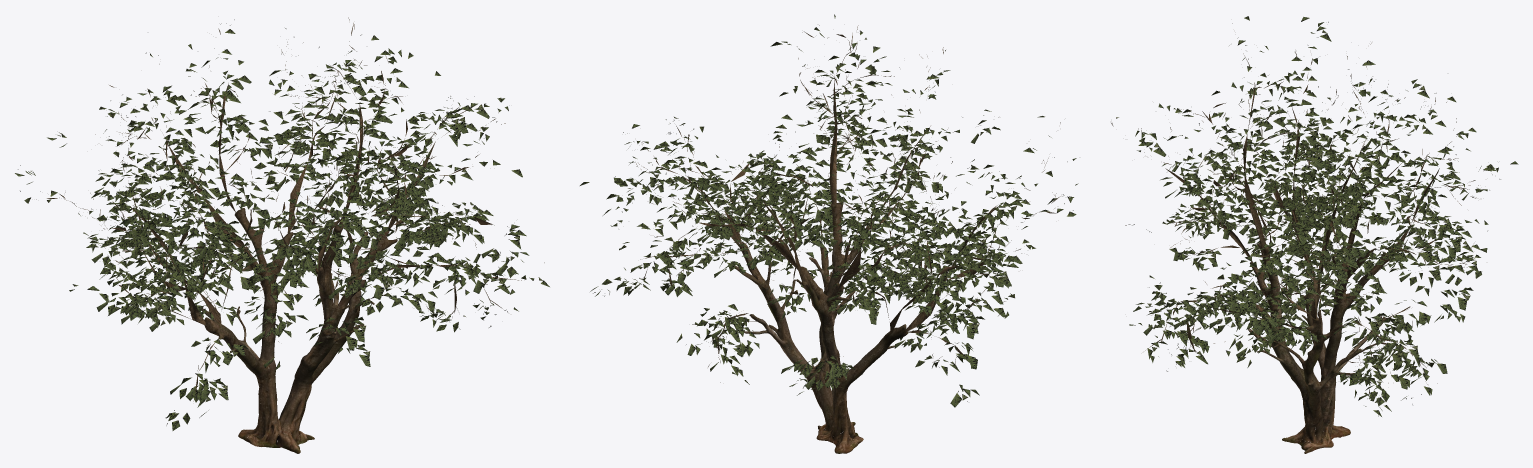
Rendered from tree_anc.glb.
The picture shows the model from 3 angles, left to right: view 1: azimuth 30°, elevation 25°; view 2: azimuth 150°, elevation 25°; view 3: azimuth 270°, elevation 25°; orthographic projection. The views are drawn at different scales.
Parts seen in each view (by area): view 1: jacaranda_tree_LOD0; view 2: jacaranda_tree_LOD0; view 3: jacaranda_tree_LOD0.
Part boxes in pixels (<box>): jacaranda_tree_LOD0: <box>15,17,549,453</box>; jacaranda_tree_LOD0: <box>580,14,1078,453</box>; jacaranda_tree_LOD0: <box>1111,16,1518,453</box>.
Size of the model in its own units: 23.18 by 19.18 by 18.17.
3 materials, 3 textured.
